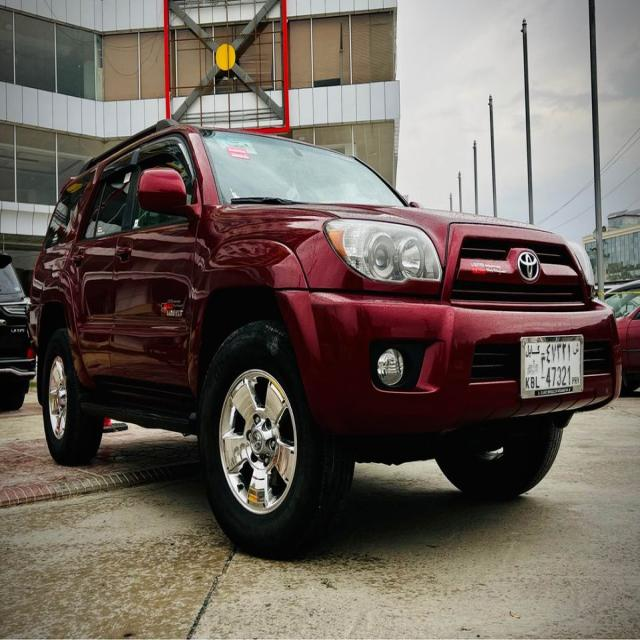Plate: (518, 335, 589, 397)
